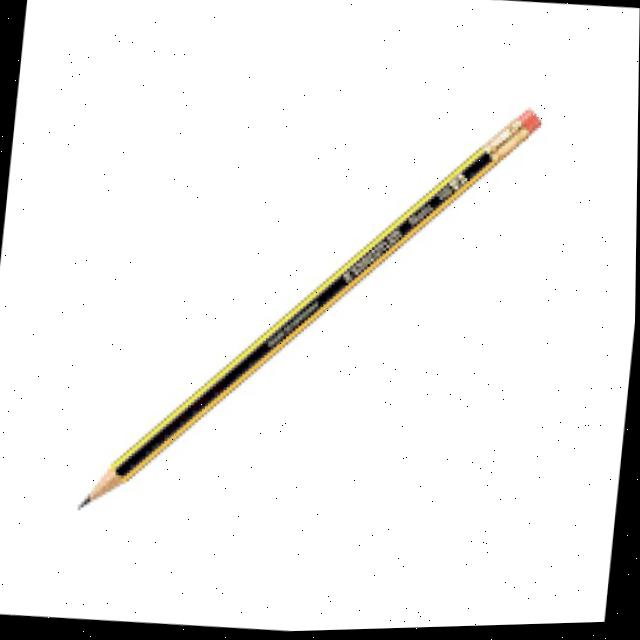pencil: (54, 88, 569, 539)
